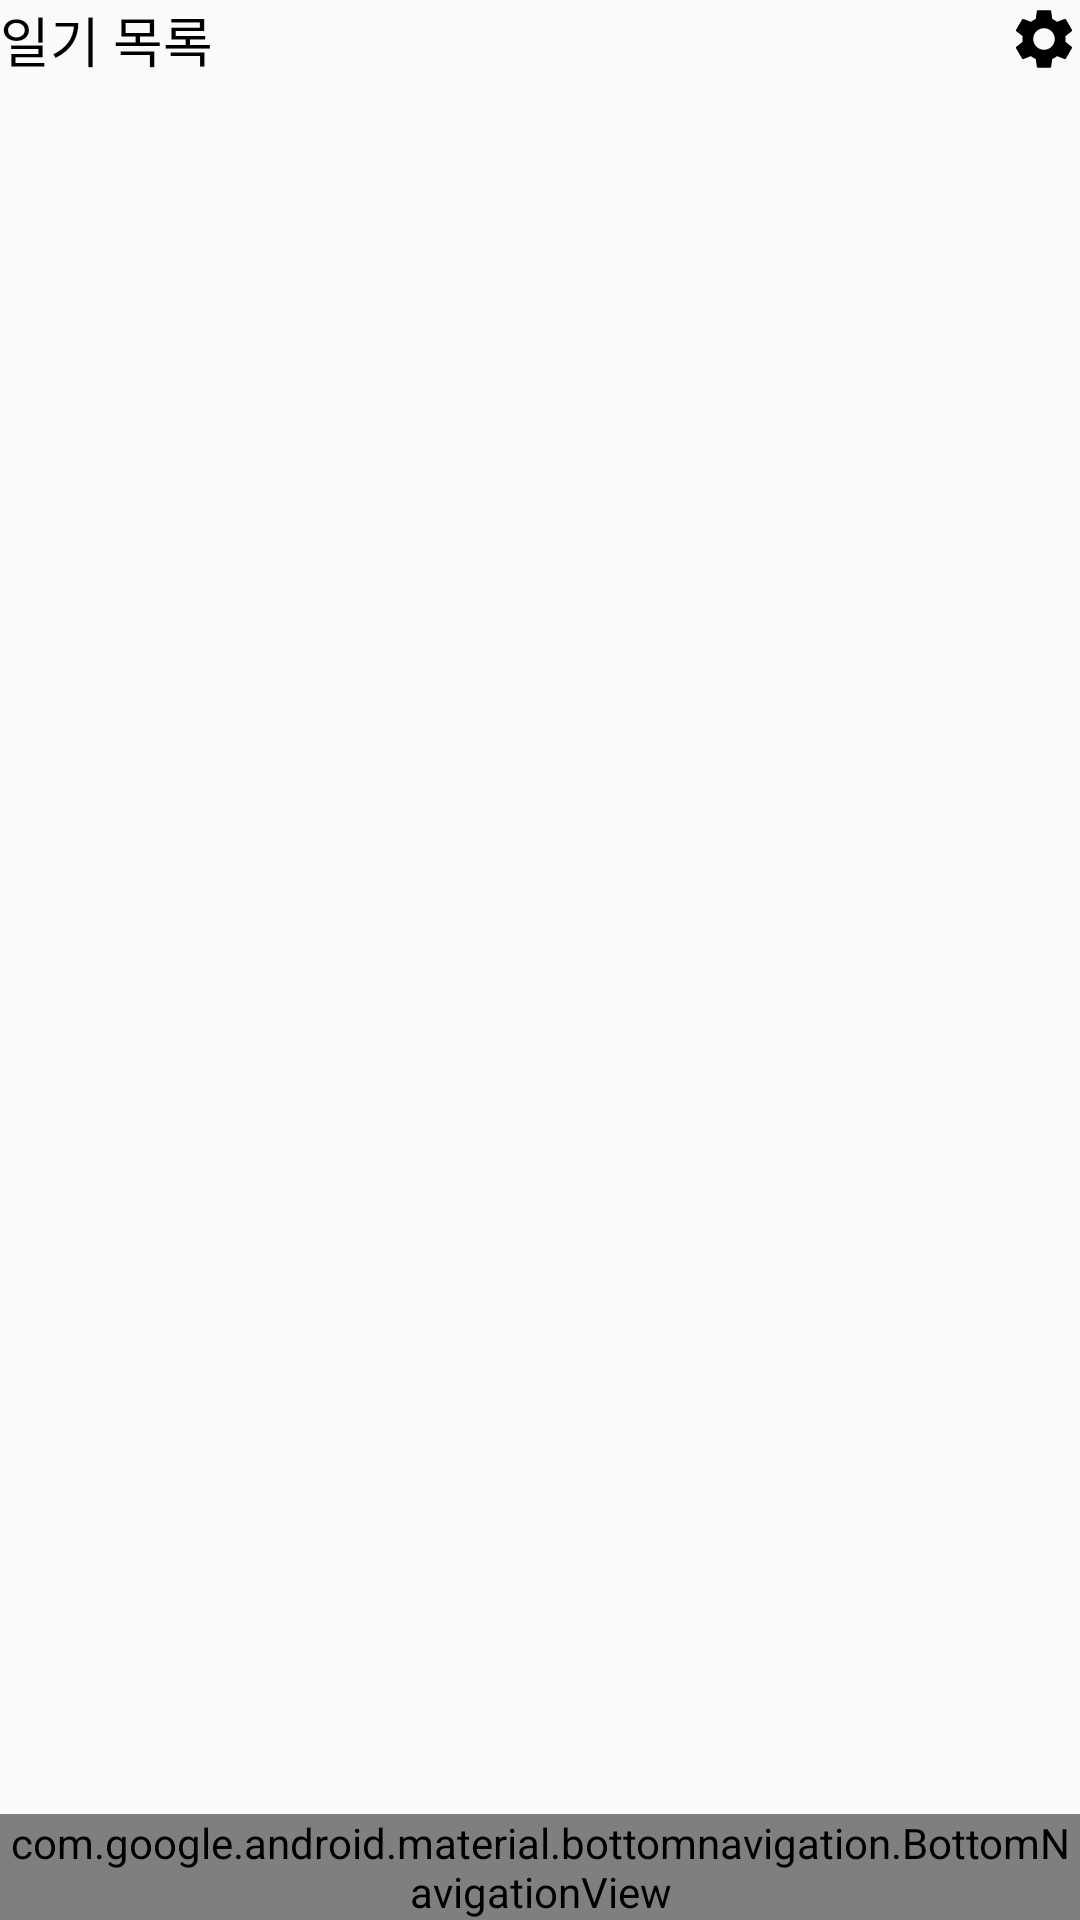

Point at icon controls on the screen. Image size 1080×1920, points as point (x, y).
Settings: point (1044, 39)
